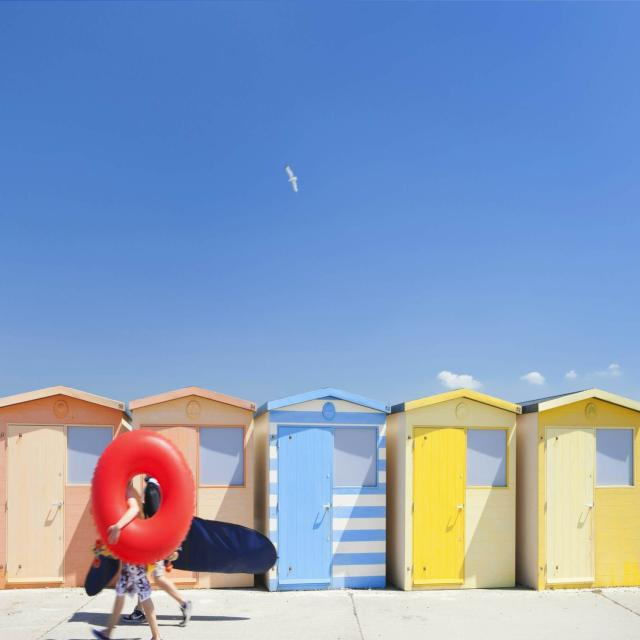Walking: (87, 466, 173, 640)
